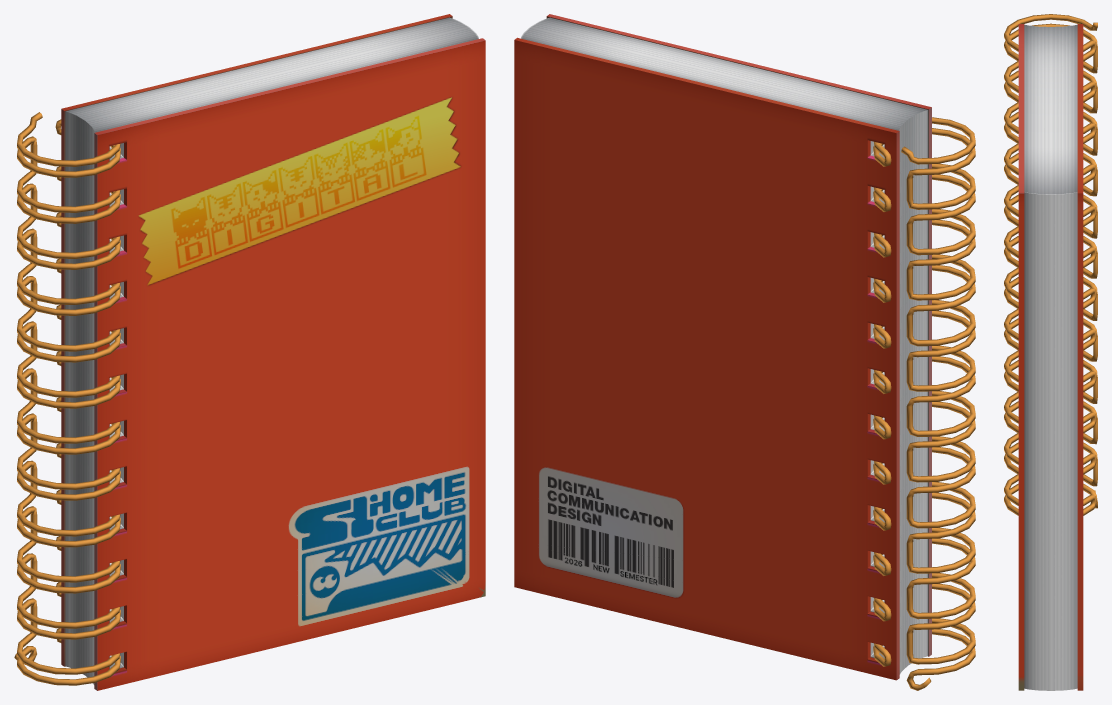
Rendered from dcd_001.glb.
3 renders of one model, left to right at view 1: azimuth 30°, elevation 25°; view 2: azimuth 150°, elevation 25°; view 3: azimuth 270°, elevation 25°, orthographic. The views are drawn at different scales.
Visible parts, largest first — view 1: book_front, book_main, metal_ring, book_back; view 2: book_back, metal_ring, book_main, book_front; view 3: book_main, metal_ring, book_back, book_front.
Part boxes in pixels (left/top/right/bottom): book_front: left=94, top=38, right=485, bottom=690; book_main: left=65, top=17, right=478, bottom=684; metal_ring: left=14, top=112, right=120, bottom=685; book_back: left=61, top=14, right=452, bottom=666; book_back: left=514, top=37, right=899, bottom=680; metal_ring: left=873, top=117, right=975, bottom=690; book_main: left=521, top=17, right=928, bottom=674; book_front: left=546, top=14, right=931, bottom=656; book_main: left=1024, top=24, right=1077, bottom=690; metal_ring: left=1004, top=14, right=1097, bottom=515; book_back: left=1077, top=24, right=1083, bottom=690; book_front: left=1018, top=24, right=1024, bottom=690.
Size of the model in its own units: 1.68 by 2 by 0.3422.
2 materials, 1 textured.
